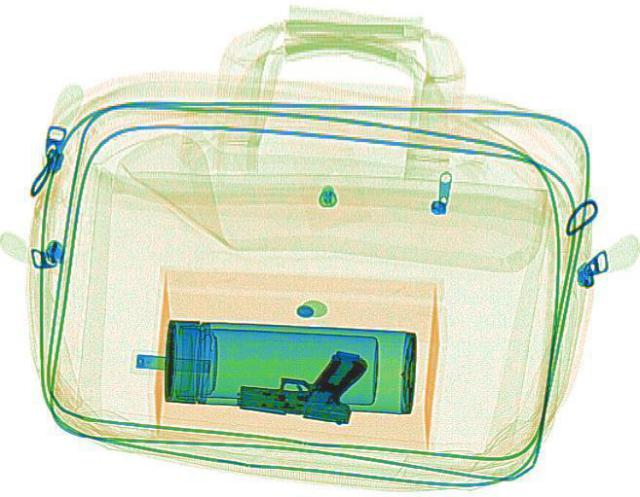Gun: (231, 341, 369, 425)
